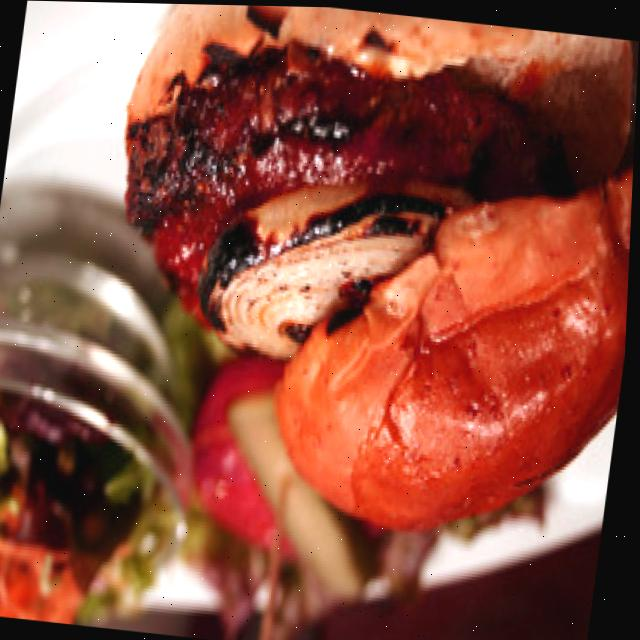汉堡快餐: (70, 2, 640, 562)
